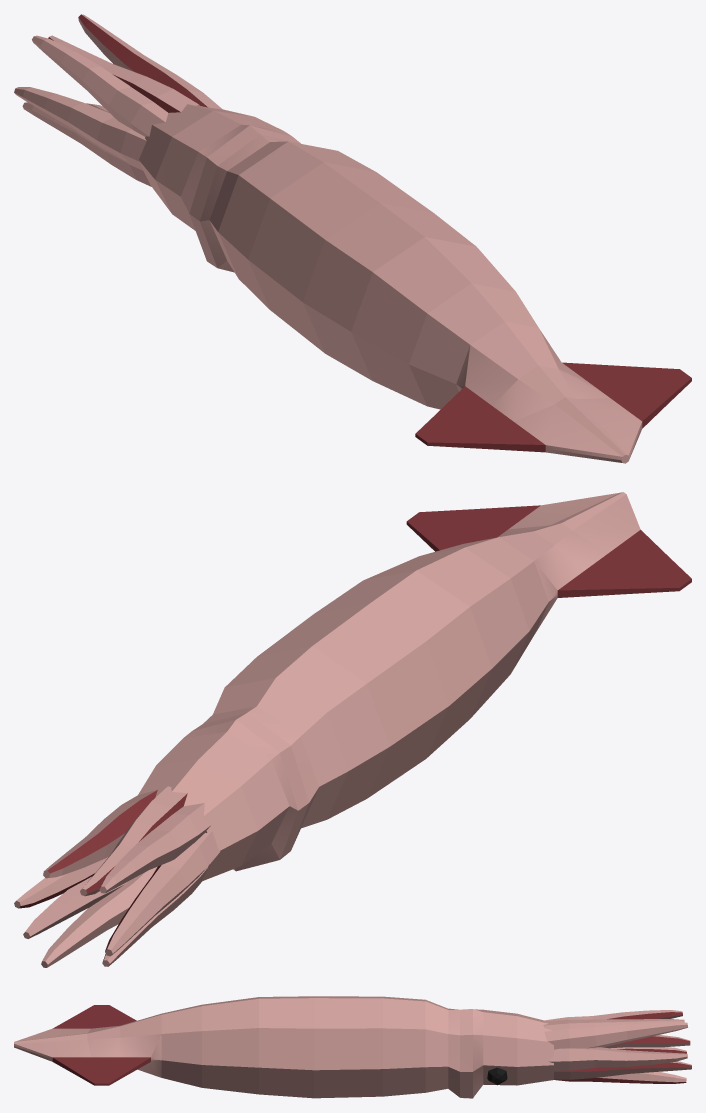
File: Mesh_Squid.obj
The picture shows the model from 3 angles, top to bottom: view 1: azimuth 30°, elevation 25°; view 2: azimuth 150°, elevation 25°; view 3: azimuth 270°, elevation 25°; orthographic projection. The views are drawn at different scales.
Parts seen in each view (by area): view 1: Mesh_Squid; view 2: Mesh_Squid; view 3: Mesh_Squid.
Boxes of the visible parts, x1,y1,x2,y2 form: Mesh_Squid: (14,14,691,463); Mesh_Squid: (14,492,691,967); Mesh_Squid: (14,996,691,1098).
Bounding box in the file's own units: 0.5599 × 0.3333 × 2.04.
Materials: 1 (1 with a texture image).
